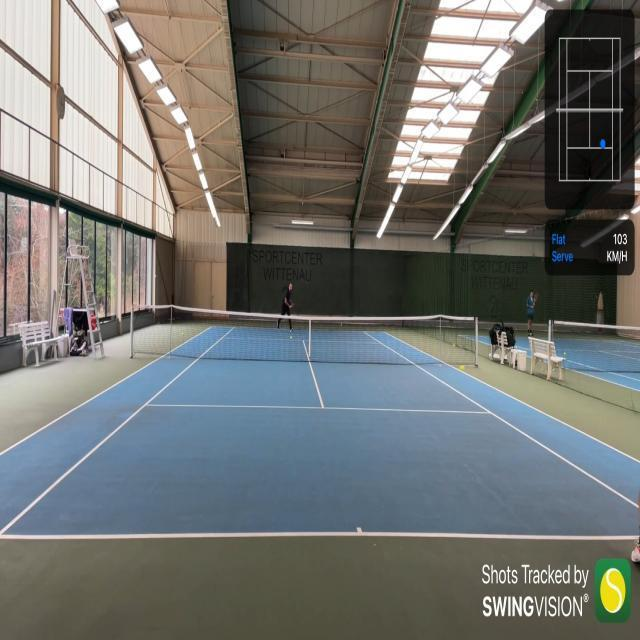court: (0, 326, 640, 542)
net: (129, 301, 480, 363)
